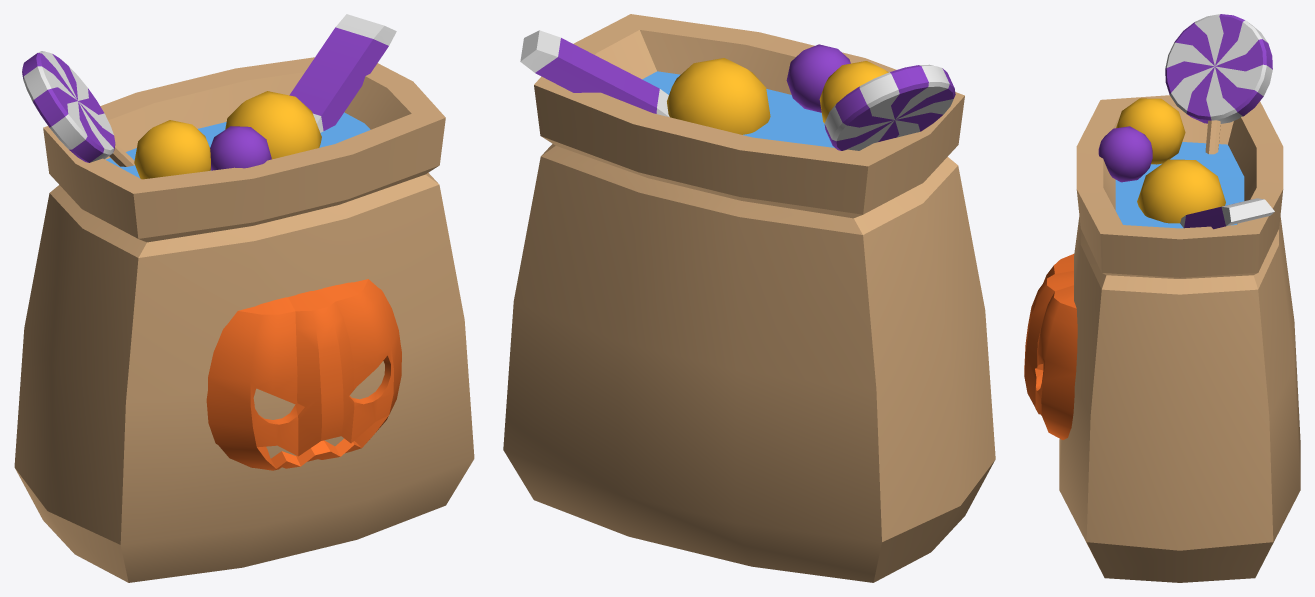
The model's file is candyBag.gltf.glb.
3 views of the same model, side by side, from view 1: azimuth 30°, elevation 25°; view 2: azimuth 150°, elevation 25°; view 3: azimuth 270°, elevation 25° (orthographic). The views are drawn at different scales.
Visible parts, largest first — view 1: candyBag; view 2: candyBag; view 3: candyBag.
Boxes of the visible parts, x1,y1,x2,y2 form: candyBag: [14, 14, 474, 582]; candyBag: [503, 14, 995, 582]; candyBag: [1024, 14, 1300, 582].
Size of the model in its own units: 1.15 by 1.37 by 0.7911.
